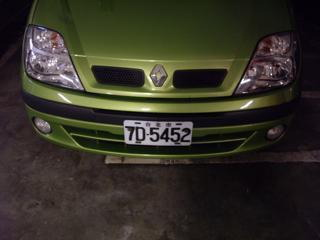plate: (121, 117, 196, 149)
